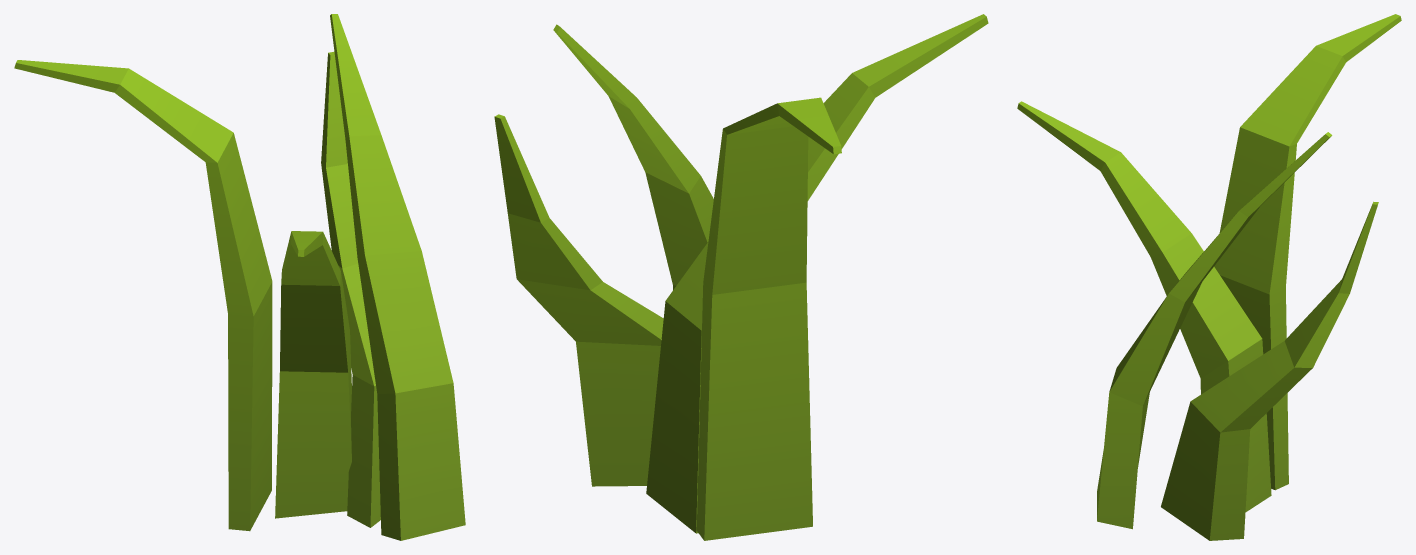
The model's file is grass_5.fbx.
3 renders of one model, left to right at view 1: azimuth 30°, elevation 25°; view 2: azimuth 150°, elevation 25°; view 3: azimuth 270°, elevation 25°, orthographic. The views are drawn at different scales.
Visible parts, largest first — view 1: grass 5; view 2: grass 5; view 3: grass 5.
Boxes of the visible parts, x1,y1,x2,y2 form: grass 5: (14, 14, 465, 540); grass 5: (494, 14, 988, 540); grass 5: (1017, 14, 1401, 540).
Bounding box in the file's own units: 0.6645 × 0.597 × 0.7718.
